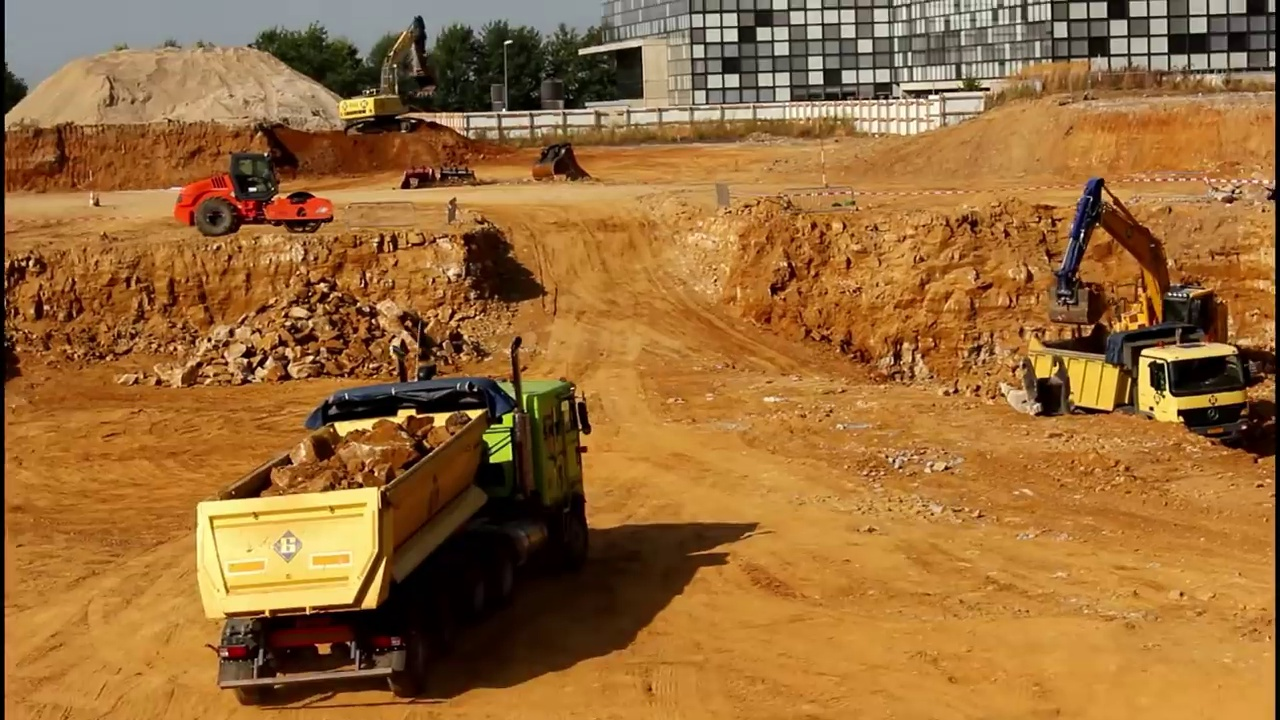compactor: (172, 152, 338, 237)
excavator: (1034, 174, 1247, 403), (337, 13, 438, 136)
truck: (191, 333, 599, 712), (1027, 326, 1253, 459)
